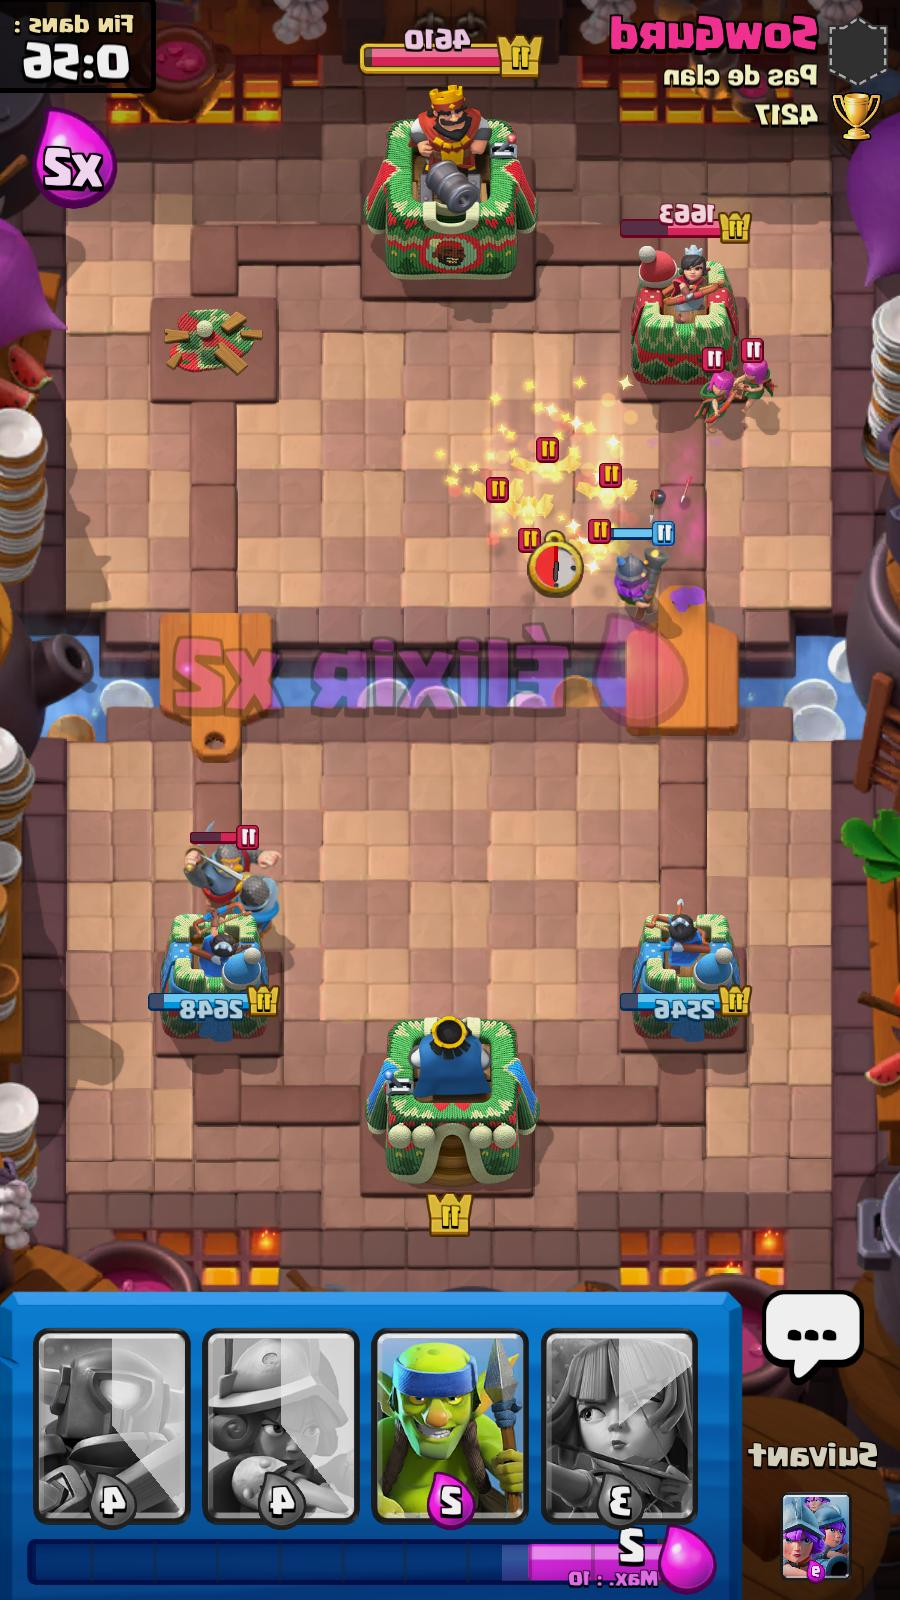archere: (733, 336, 770, 414), (702, 348, 733, 425)
bat: (578, 462, 636, 507), (514, 449, 582, 484), (500, 493, 560, 526), (465, 479, 530, 508), (573, 523, 629, 555)
chevalier: (174, 826, 280, 900), (214, 870, 280, 937)
mousquetaire: (605, 523, 670, 613)
